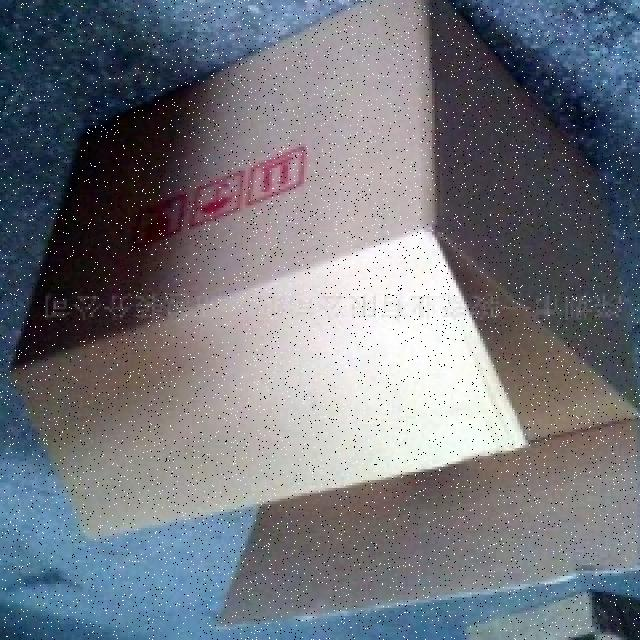box: (27, 1, 640, 603)
